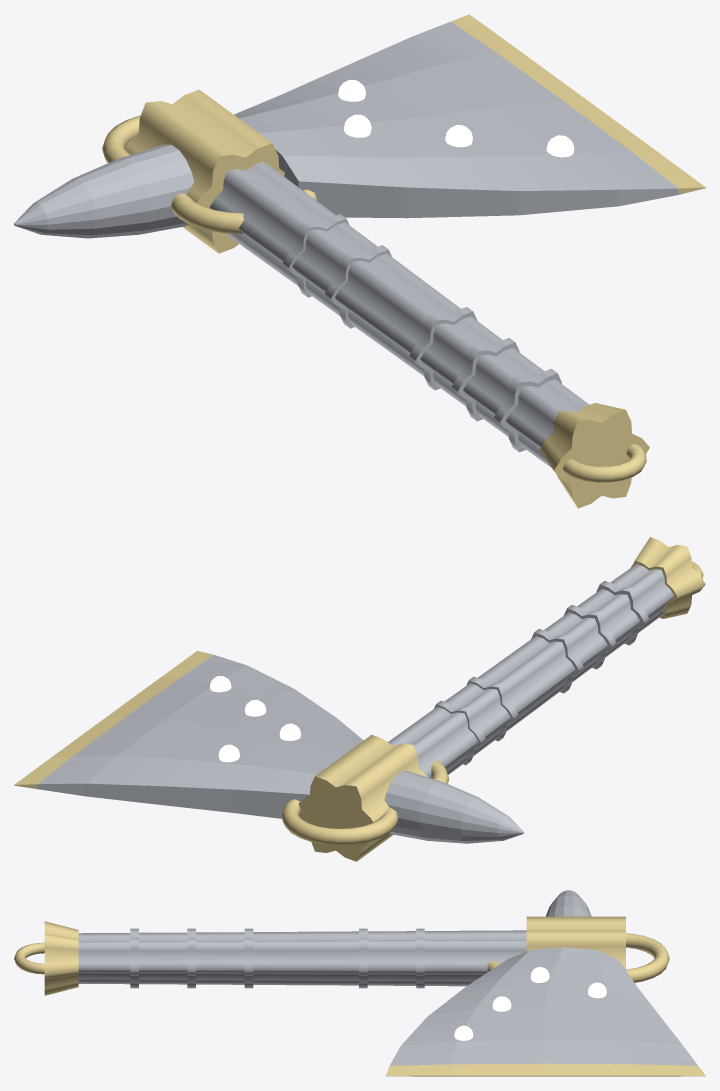
File: art_quakestone_greataxe.fbx
The picture shows the model from 3 angles, top to bottom: view 1: azimuth 30°, elevation 25°; view 2: azimuth 150°, elevation 25°; view 3: azimuth 270°, elevation 25°; orthographic projection. The views are drawn at different scales.
Parts seen in each view (by area): view 1: Blade, Handle, HeadCollar, BackSpike, Pommel, BladeEdge, RuneInlay; view 2: Blade, Handle, HeadCollar, BackSpike, Pommel, BladeEdge, RuneInlay; view 3: Handle, Blade, HeadCollar, BladeEdge, Pommel, RuneInlay, BackSpike.
Boxes of the visible parts, x1,y1,x2,y2 form: Blade: [234, 21, 678, 218]; Handle: [209, 161, 589, 467]; HeadCollar: [102, 89, 317, 253]; BackSpike: [14, 144, 194, 238]; Pommel: [540, 403, 649, 508]; BladeEdge: [451, 14, 705, 194]; RuneInlay: [338, 79, 574, 157]; Blade: [37, 655, 363, 818]; Handle: [388, 564, 673, 777]; HeadCollar: [281, 735, 449, 861]; BackSpike: [384, 771, 523, 843]; Pommel: [630, 537, 705, 618]; BladeEdge: [14, 651, 213, 788]; RuneInlay: [210, 676, 301, 762]; Handle: [78, 928, 526, 988]; Blade: [389, 947, 697, 1065]; HeadCollar: [487, 916, 669, 982]; BladeEdge: [386, 1063, 705, 1076]; Pommel: [14, 921, 78, 995]; RuneInlay: [454, 967, 606, 1040]; BackSpike: [546, 890, 591, 916].
Bounding box in the file's own units: 228 × 38.17 × 363.
